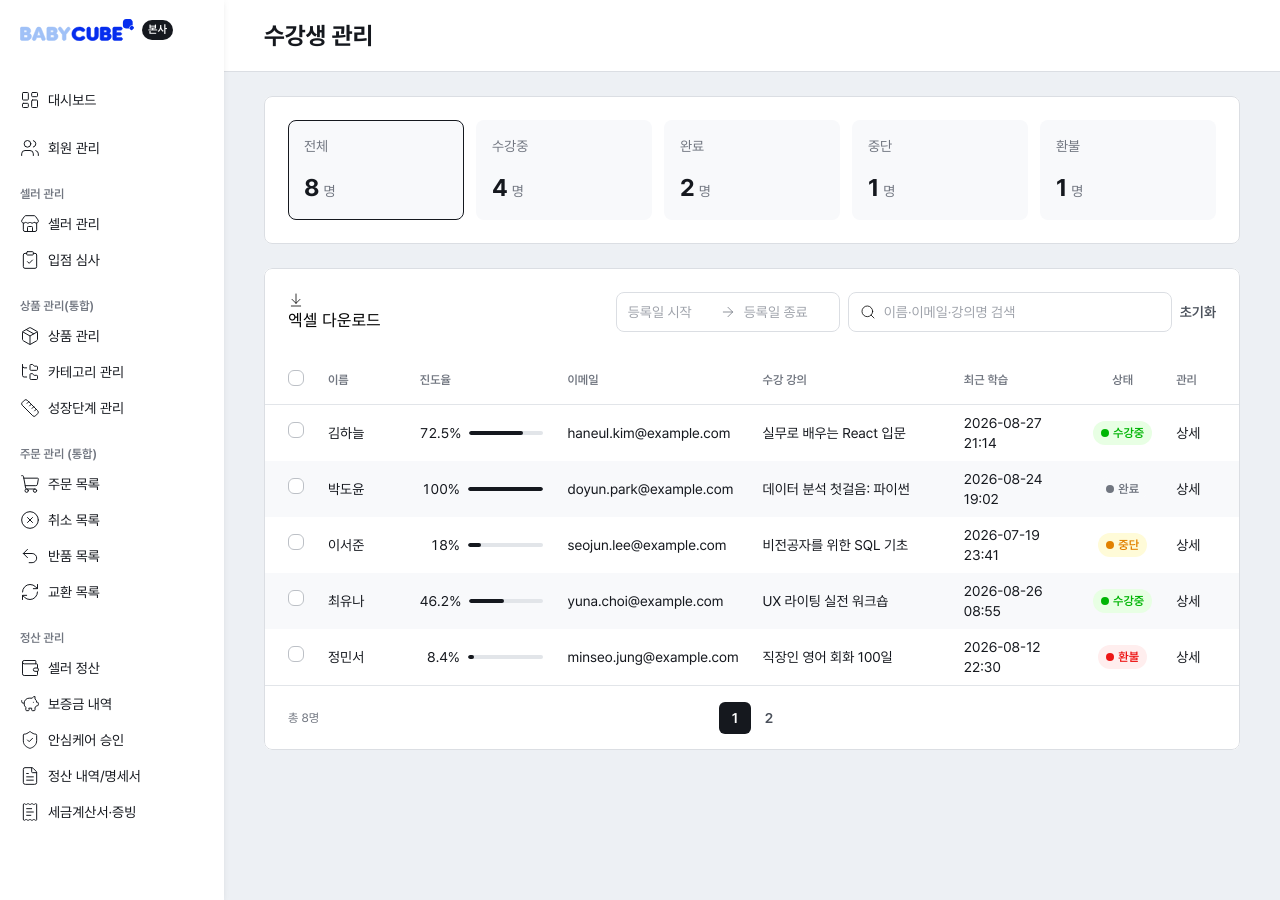
StudentListPage (수강생 관리) › 상태 건수 대시 (StatGrid) › 상자를 누르면 그 상태로 표가 걸러지고 선택 상태가 남는다
This screenshot has width=1280, height=900.
Click the button with aria-label "중단 1명". click: (940, 170)
box: [852,120,1028,220]
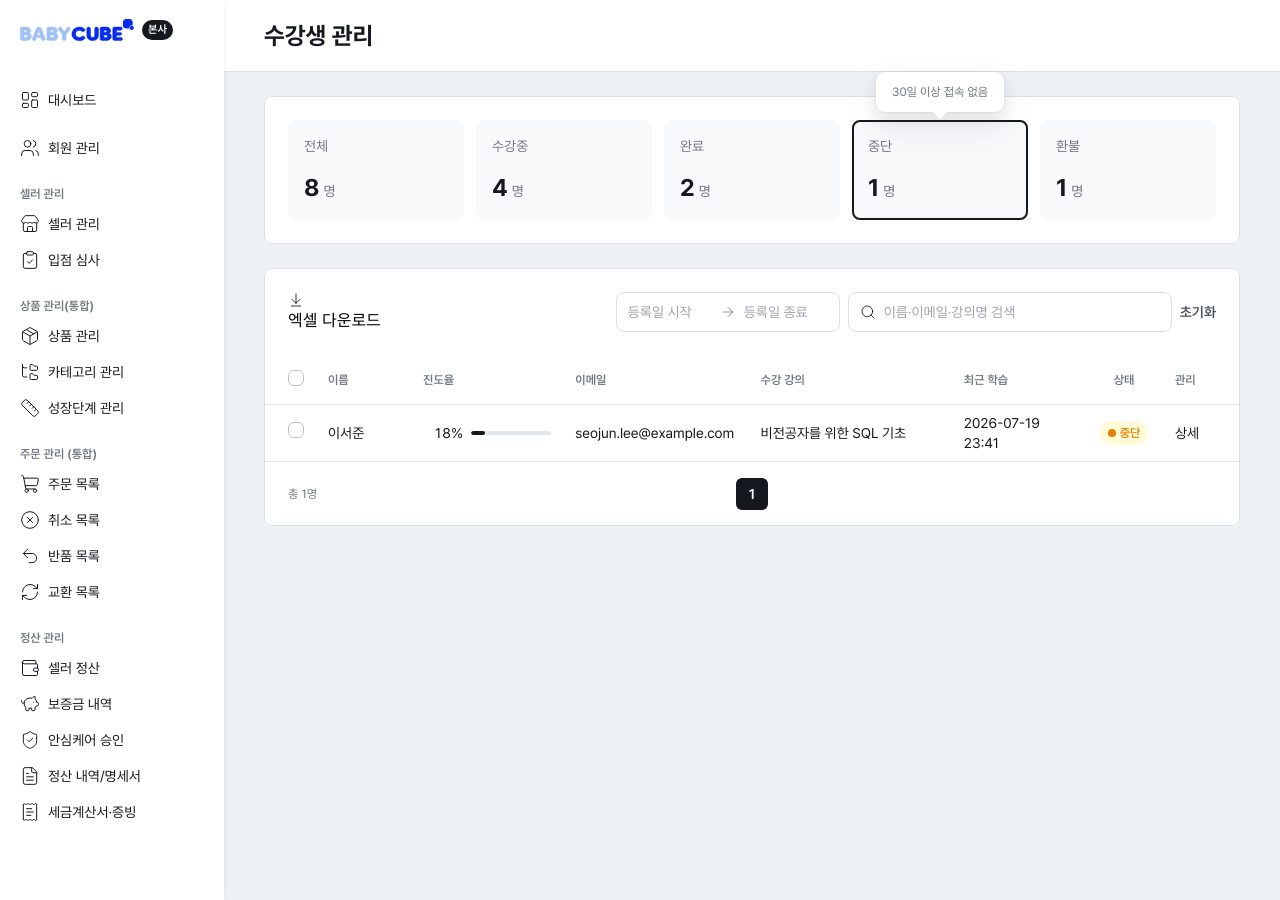
Result: the text "총 1명" is shown at [288,486,317,502]
